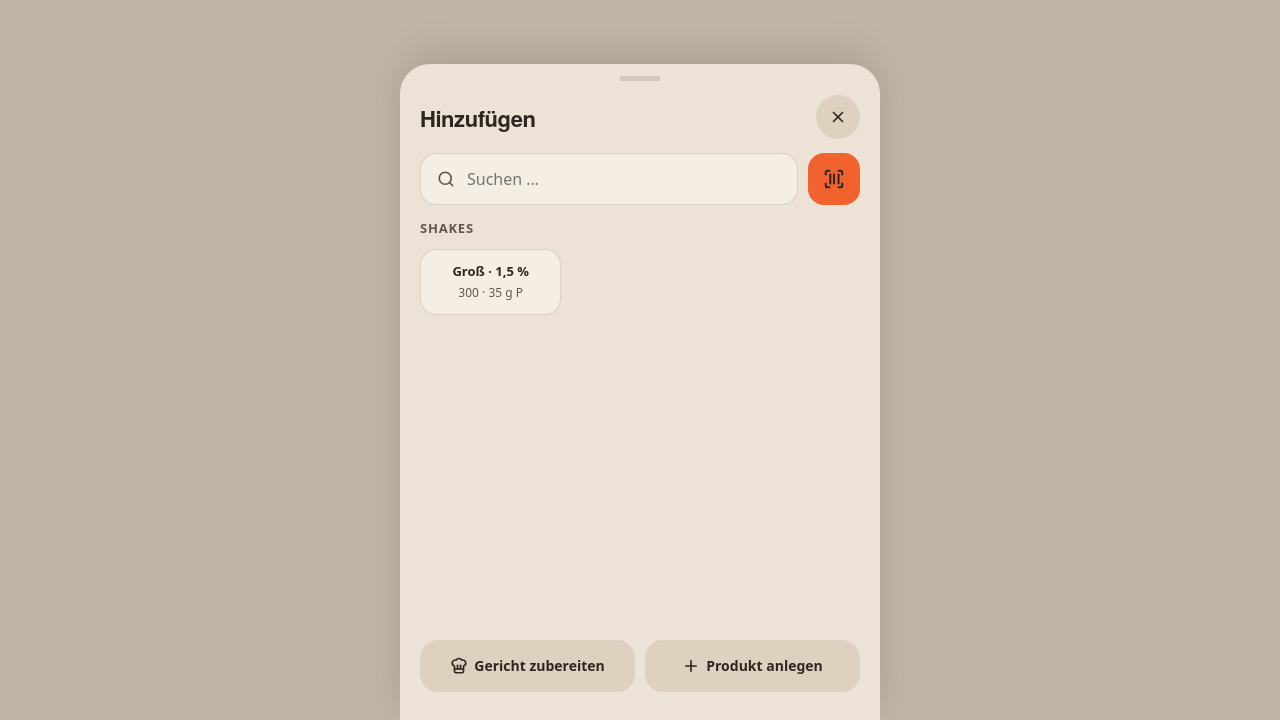
Test case: AddFlow › jumps to the first tab with hits and shows reference values like milk there
Type "milch" into the search field named "Lebensmittel suchen".
click(623, 179); type("milch")  # box [465,167,781,191]
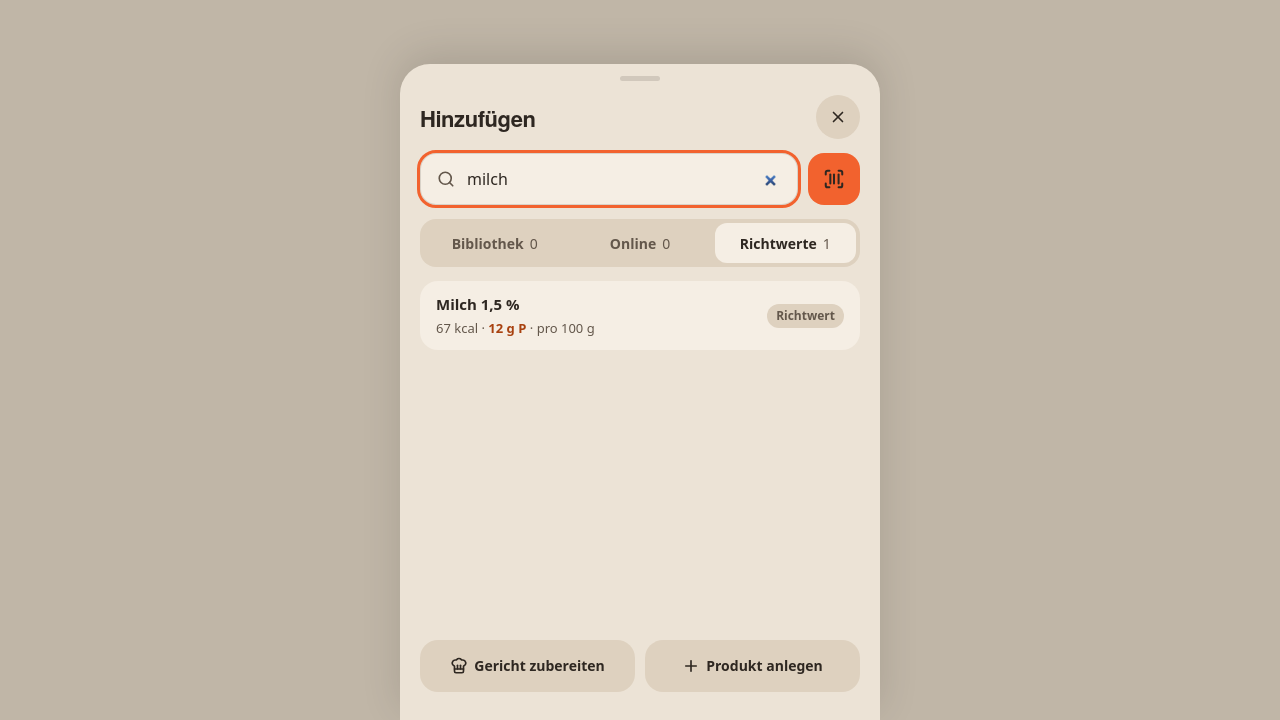
Expected: the element named "Richtwerte" shows "Milch 1,5 %", [420,281,860,350]
Expected: the button "Online 0" is shown, [569,223,711,263]
